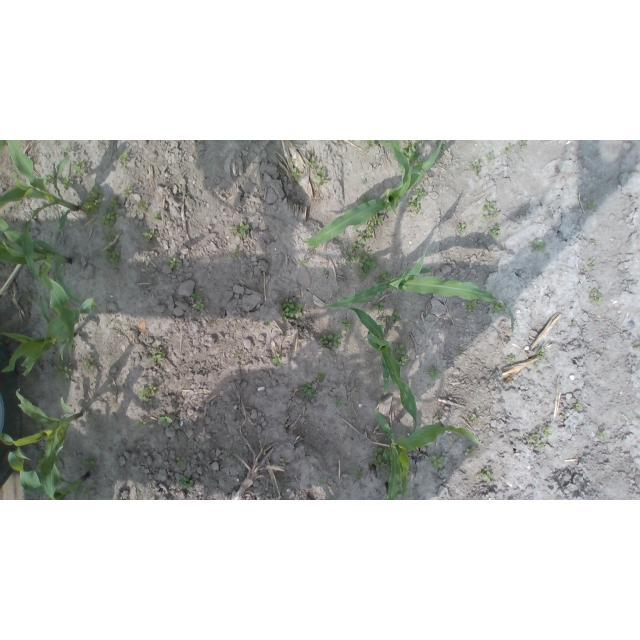Maize: (322, 245, 515, 335), (302, 140, 444, 248), (0, 141, 82, 288), (0, 259, 98, 378), (372, 406, 486, 500), (0, 216, 98, 321), (345, 306, 420, 439), (1, 388, 84, 499), (6, 446, 90, 500)
Weeds: (347, 206, 393, 282), (308, 157, 331, 186), (99, 197, 121, 227), (406, 184, 427, 213), (103, 234, 121, 266), (282, 300, 305, 323), (372, 448, 395, 471), (44, 174, 76, 190), (391, 342, 409, 369), (85, 189, 102, 216), (524, 433, 546, 453), (403, 146, 423, 165), (190, 294, 207, 315), (54, 364, 75, 381), (320, 335, 344, 349), (481, 200, 497, 221), (232, 222, 250, 238), (138, 387, 157, 402), (150, 348, 164, 365), (71, 162, 85, 179), (481, 465, 494, 483), (589, 289, 603, 305), (470, 159, 482, 177), (83, 360, 98, 374), (432, 454, 447, 468), (166, 257, 181, 271), (178, 477, 194, 490), (118, 151, 131, 166), (289, 170, 303, 183), (142, 228, 154, 242), (487, 304, 505, 313), (428, 367, 441, 379), (300, 384, 312, 397), (532, 244, 546, 255), (369, 140, 388, 148), (455, 222, 466, 234), (390, 310, 402, 321), (466, 445, 479, 455), (123, 186, 133, 199), (466, 299, 476, 312), (157, 416, 171, 425), (559, 408, 569, 419), (597, 431, 608, 441), (486, 151, 496, 162), (374, 302, 385, 312), (342, 320, 350, 333), (489, 228, 502, 236), (272, 353, 281, 364), (588, 201, 597, 212), (176, 457, 187, 466), (537, 347, 545, 359), (136, 420, 147, 428), (318, 477, 327, 486), (300, 258, 309, 267), (334, 400, 343, 409), (355, 469, 362, 480), (543, 427, 551, 436), (62, 145, 72, 152), (574, 402, 581, 412), (519, 141, 529, 148), (506, 355, 514, 363), (317, 373, 326, 380), (140, 203, 148, 210), (504, 143, 512, 150), (231, 249, 237, 258), (324, 270, 330, 277), (154, 213, 161, 219)
